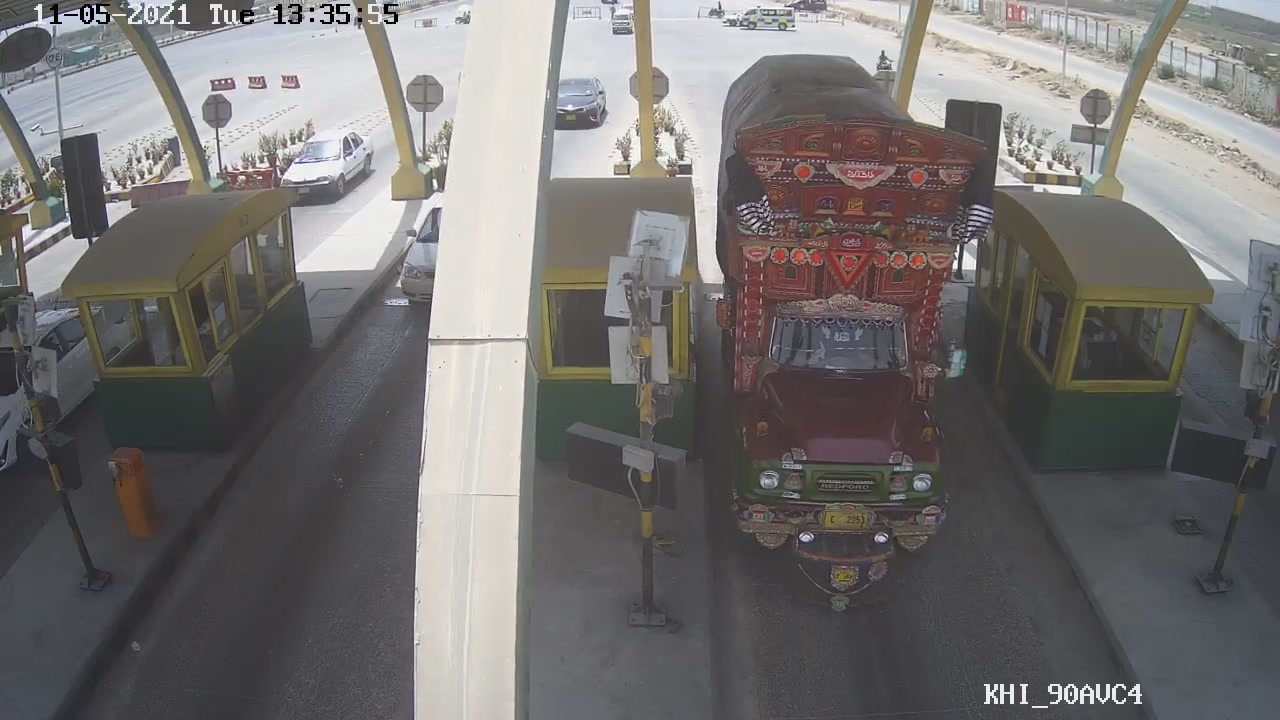F5: (703, 69, 1000, 600)
